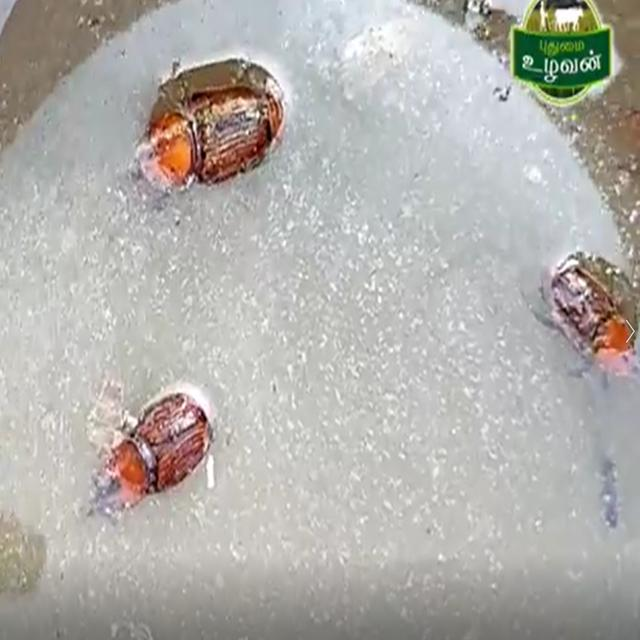Red-palm-weevil: (129, 73, 297, 204), (75, 390, 231, 524), (530, 216, 640, 394)
